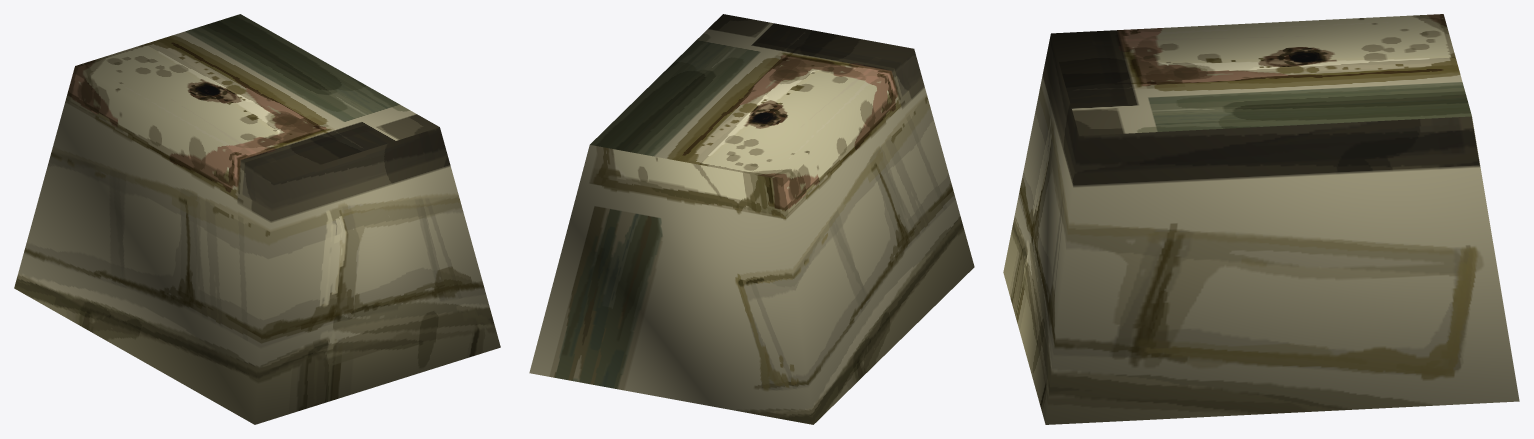
The model's file is SM_light.fbx.
3 renders of one model, left to right at view 1: azimuth 30°, elevation 25°; view 2: azimuth 150°, elevation 25°; view 3: azimuth 270°, elevation 25°, orthographic. The views are drawn at different scales.
Parts seen in each view (by area): view 1: Cube.021; view 2: Cube.021; view 3: Cube.021.
Part boxes in pixels (left/top/right/bottom): Cube.021: left=14, top=14, right=500, bottom=424; Cube.021: left=529, top=14, right=974, bottom=424; Cube.021: left=1003, top=14, right=1519, bottom=424.
Size of the model in its own units: 19.98 by 15.54 by 24.78.
